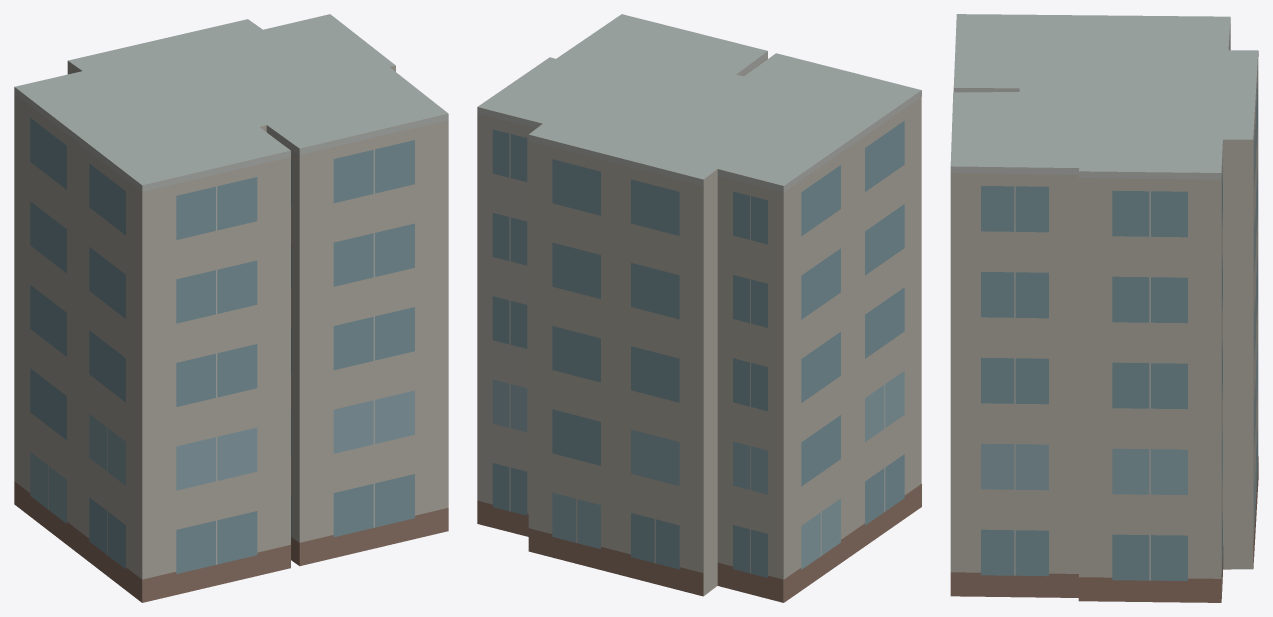
Rendered from survey-upis-32945161.glb.
The picture shows the model from 3 angles, left to right: view 1: azimuth 30°, elevation 25°; view 2: azimuth 150°, elevation 25°; view 3: azimuth 270°, elevation 25°; orthographic projection. The views are drawn at different scales.
Visible parts, largest first — view 1: survey-upis-32945161.tmp; view 2: survey-upis-32945161.tmp; view 3: survey-upis-32945161.tmp.
Part boxes in pixels (x1=…): survey-upis-32945161.tmp: x1=14, y1=14, x2=448, y2=602; survey-upis-32945161.tmp: x1=477, y1=14, x2=921, y2=602; survey-upis-32945161.tmp: x1=950, y1=14, x2=1258, y2=602.
Bounding box in the file's own units: 12.51 × 15.75 × 10.23.
